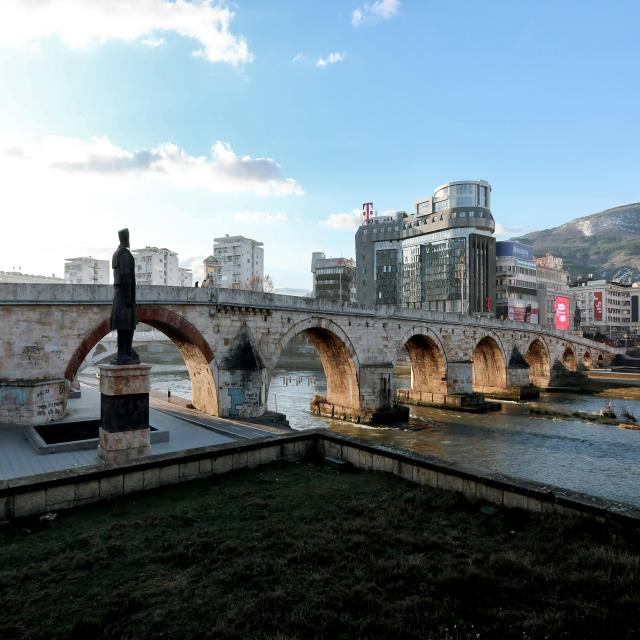Stone Bridge: (0, 235, 638, 458)
